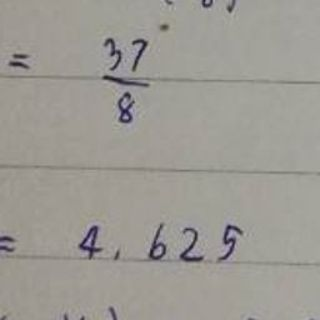.: (110, 246, 124, 262)
2: (177, 225, 205, 262)
3: (101, 36, 123, 72)
4: (77, 224, 103, 261)
5: (217, 222, 244, 262)
6: (147, 220, 168, 262)
7: (129, 37, 150, 73)
8: (116, 90, 137, 124)
